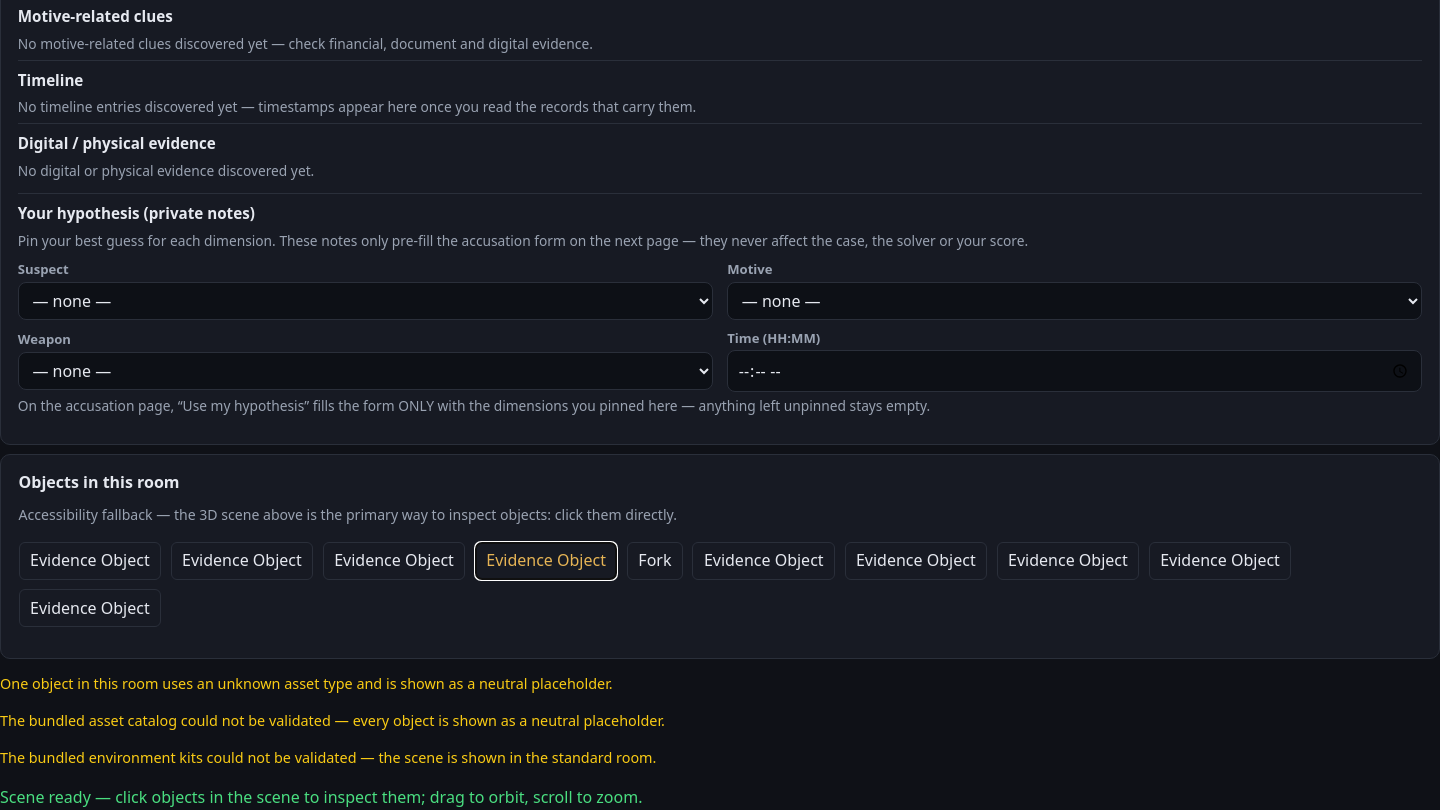
it: Phase 19F — /scene accessibility fallback (universal inspectable buttons) › P42-ADV-06 — opening a NEUTRAL-object inspection from the accessibility list keeps keyboard focus predictable and returns it on close
(page scrolled)
What coordinates should you click on to do the following:
click the button with test id "object-apartment_table"
I would click on:
 (546, 561)
Its box is [475,542,617,580].
(page scrolled)
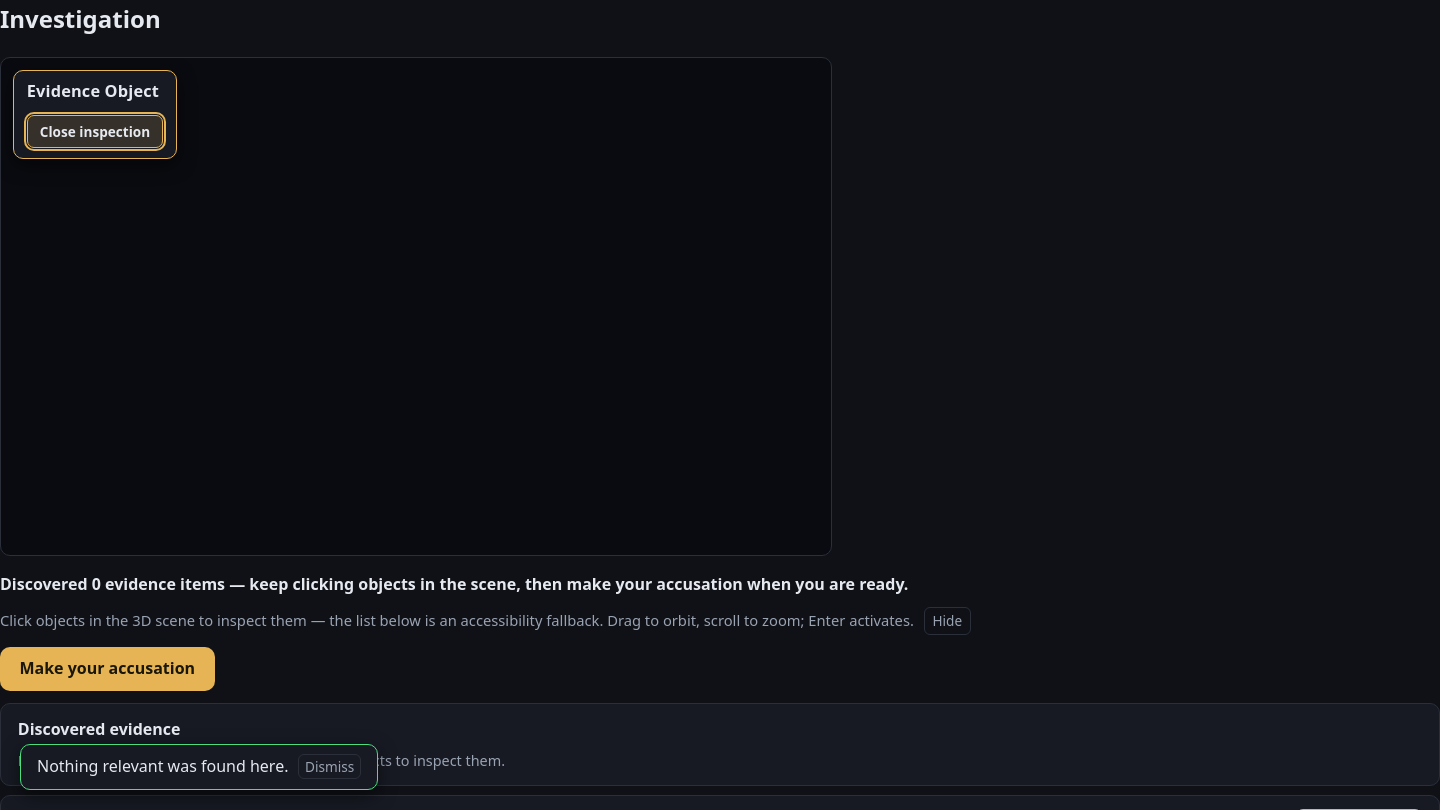
Expected: the element with test id "focus-inspection" is shown, [13,70,177,159]
What coordinates should you click on to do the following:
click the button with test id "focus-close"
I would click on:
 (95, 131)
Its box is [27,115,163,148].
(page scrolled)
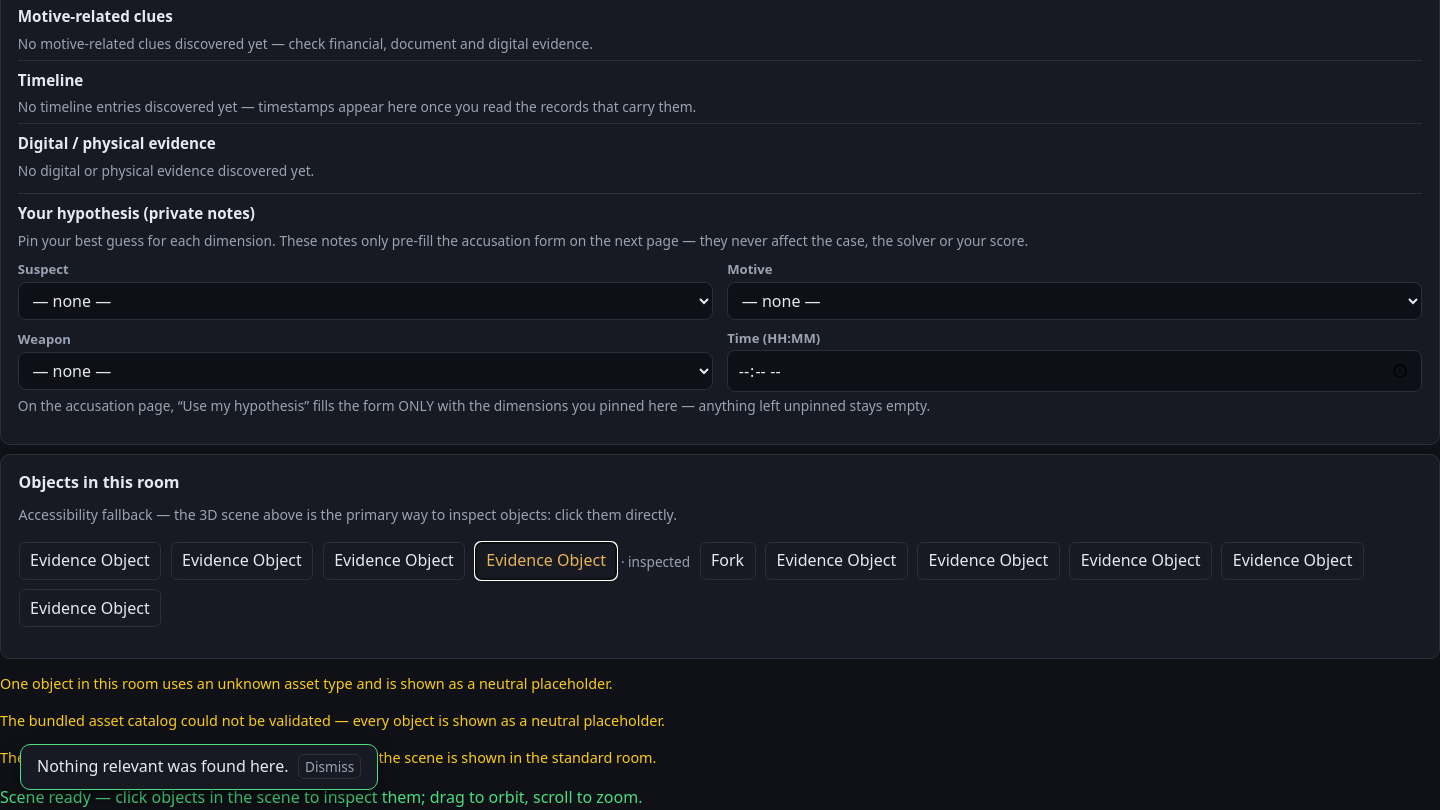
Expected: the element with test id "focus-inspection" is gone
